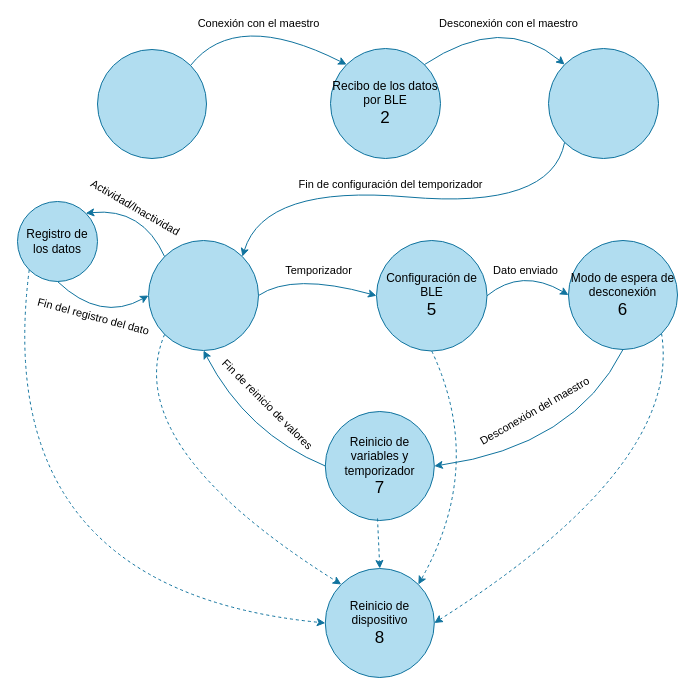
This 695x695 diagram has some shape labels left out. Each missing label, with the centre of its shape:
Bajo Consumo 4: pixel 203 295
Configuración 1: pixel 151 103
Configuración del temporizador 3: pixel 603 103
